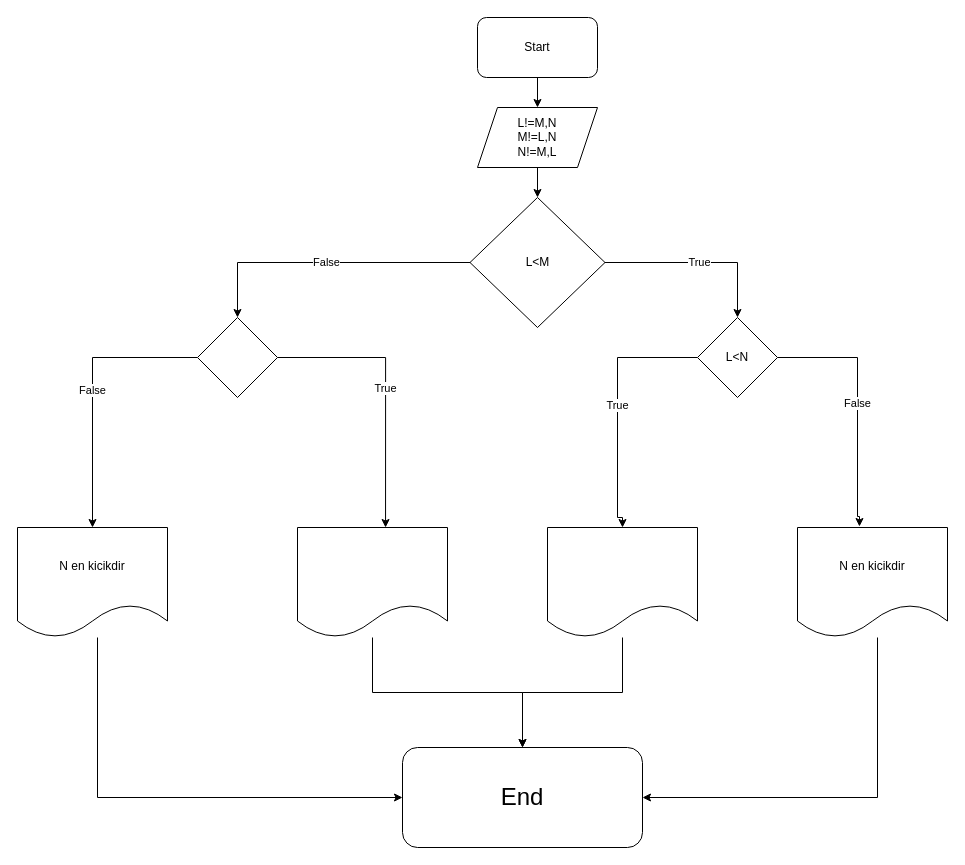
Some shapes in this 965 by 865 pixel diagram are drawn without their labels. Each missing label, with the centre of its shape:
L en kicikdir: [622,582]
M en kicikdir: [372,582]
M<N: [237,357]
